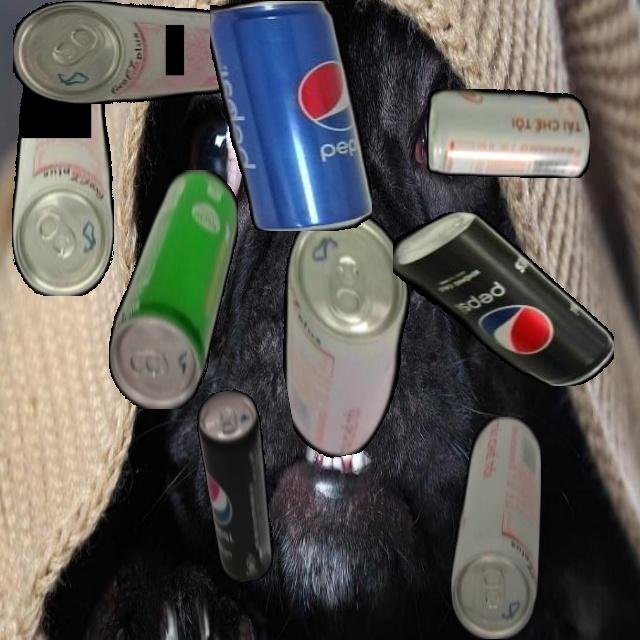debris: (258, 200, 435, 463), (392, 212, 614, 386), (209, 1, 372, 231), (108, 169, 238, 409), (13, 0, 249, 104), (11, 61, 114, 296), (450, 416, 541, 639), (192, 386, 287, 585), (426, 88, 590, 178)
